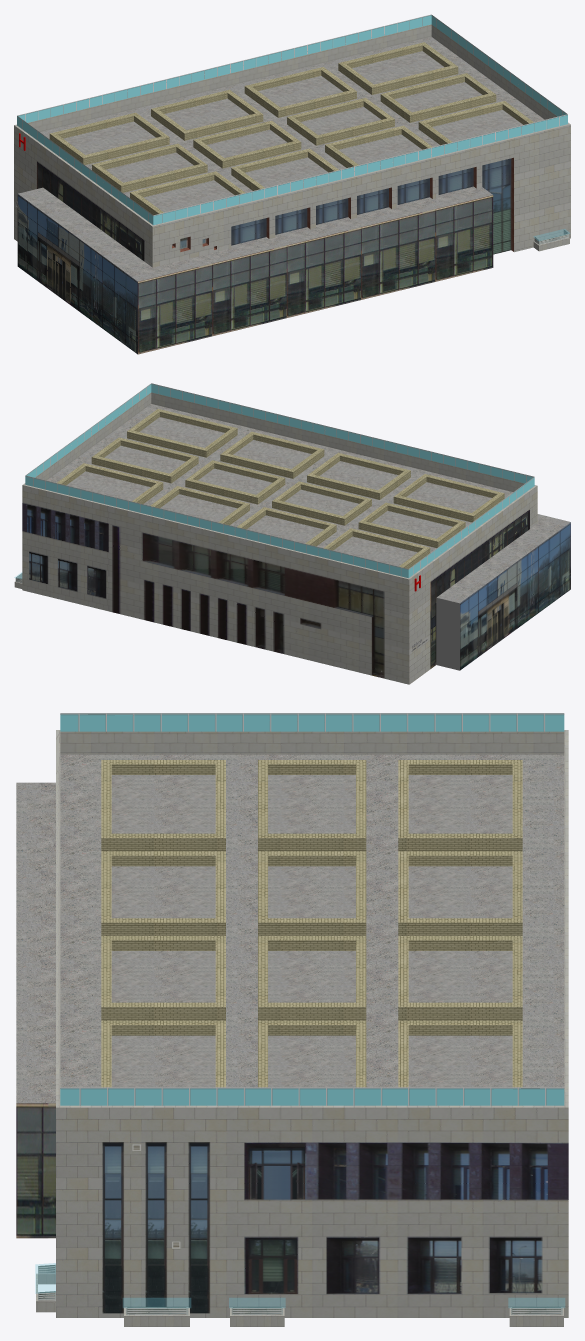
The model's file is H_XingZhengLou.FBX.
The picture shows the model from 3 angles, top to bottom: view 1: azimuth 30°, elevation 25°; view 2: azimuth 150°, elevation 25°; view 3: azimuth 270°, elevation 25°; orthographic projection. The views are drawn at different scales.
Parts seen in each view (by area): view 1: XingZhengLou; view 2: XingZhengLou; view 3: XingZhengLou.
Boxes of the visible parts, x1=… form: XingZhengLou: x1=14, y1=14, x2=570, y2=354; XingZhengLou: x1=14, y1=383, x2=570, y2=684; XingZhengLou: x1=16, y1=713, x2=568, y2=1326.
Bounding box in the file's own units: 4601 × 1200 × 2622.
